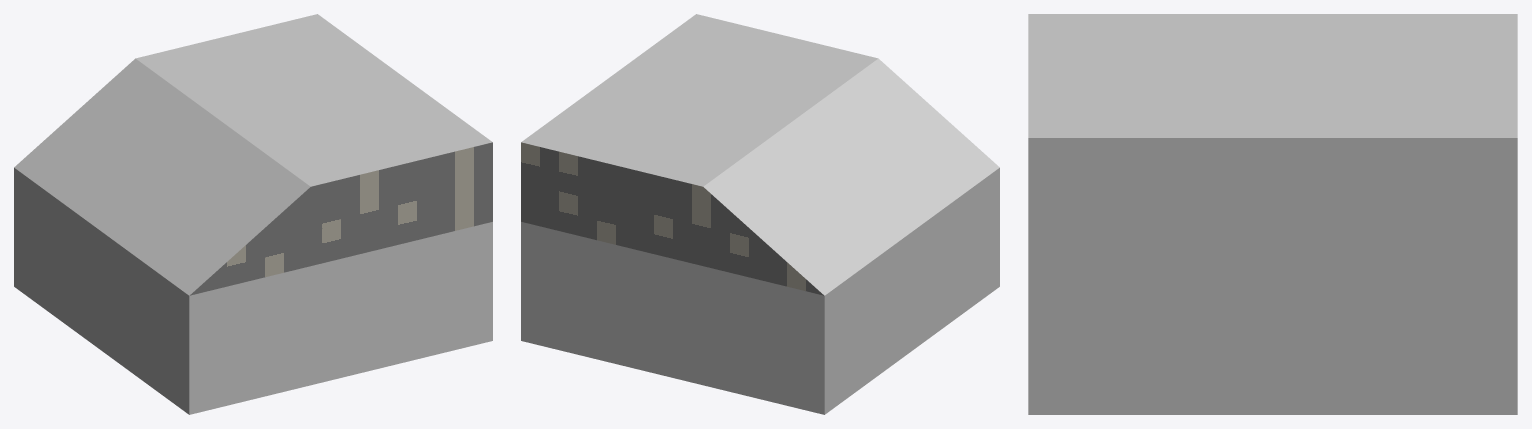
File: slope62_5_shave6_base6.obj
The picture shows the model from 3 angles, left to right: view 1: azimuth 30°, elevation 25°; view 2: azimuth 150°, elevation 25°; view 3: azimuth 270°, elevation 25°; orthographic projection. The views are drawn at different scales.
Bounding box in the file's own units: 1 × 0.625 × 1.
